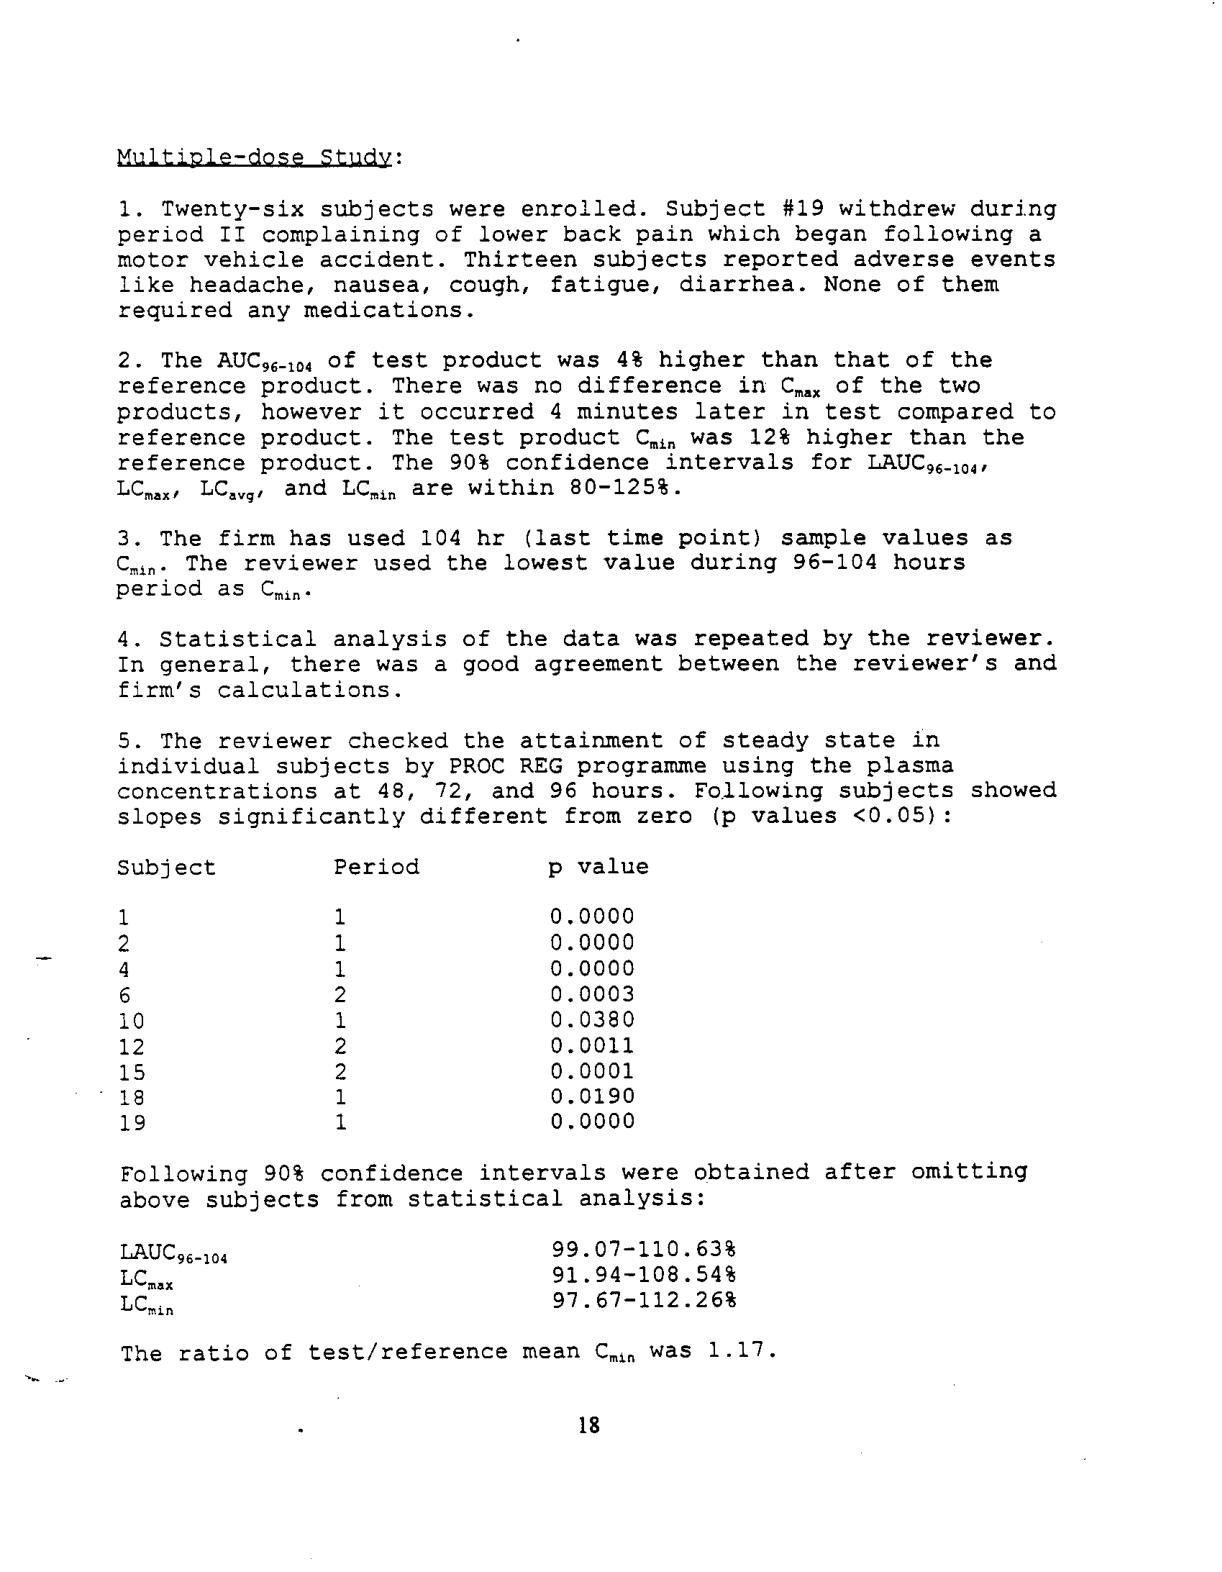nolines: (114, 857, 654, 1131)
